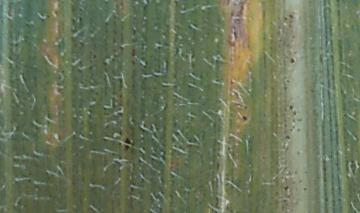tarspot: (122, 136, 133, 152), (142, 1, 153, 12), (231, 29, 239, 40), (240, 114, 248, 122), (288, 56, 296, 64), (287, 12, 295, 20), (284, 133, 292, 141), (128, 185, 135, 193), (283, 184, 290, 192), (287, 103, 293, 109)
